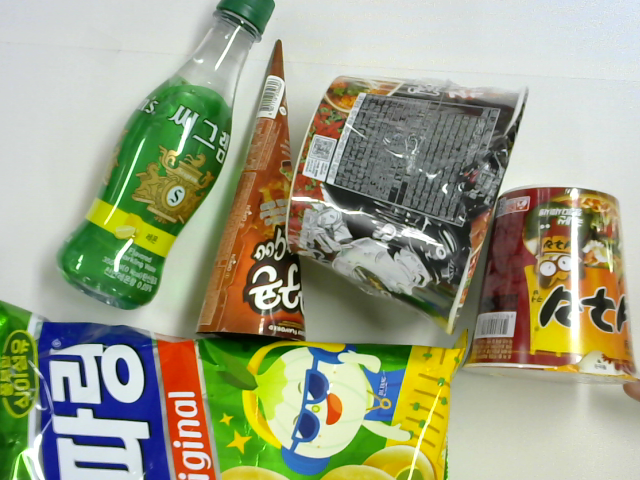GooGoo_Cone_CVS: (195, 37, 309, 342)
HeJangsock: (289, 70, 533, 332)
Oninon_Ring: (1, 303, 468, 480)
Raccoon: (457, 188, 637, 385)
Seagram_Lemon_Carbonated_Water: (55, 1, 277, 310)
